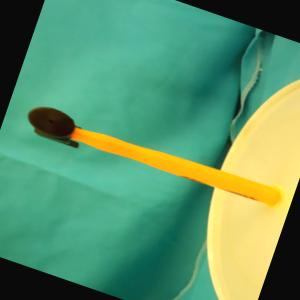martelo: (20, 100, 285, 218)
